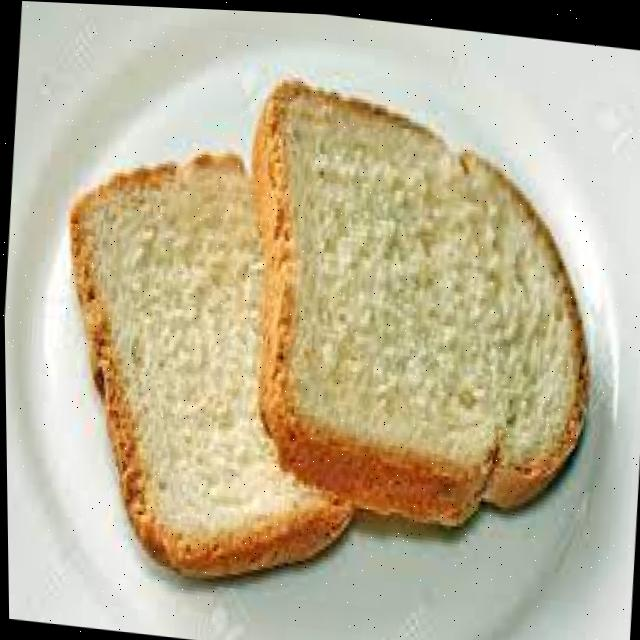Bread: (252, 78, 588, 520), (69, 151, 350, 574)
